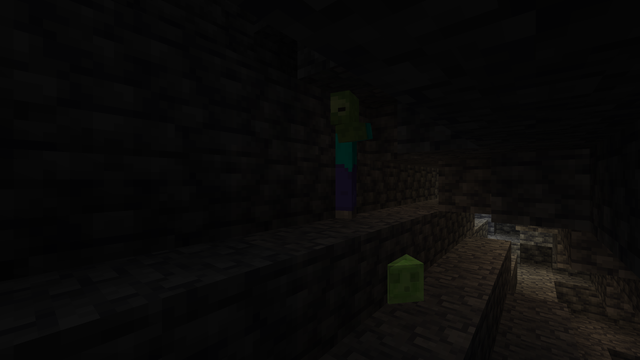slimes: (388, 253, 422, 306)
zombies: (327, 91, 364, 220)
